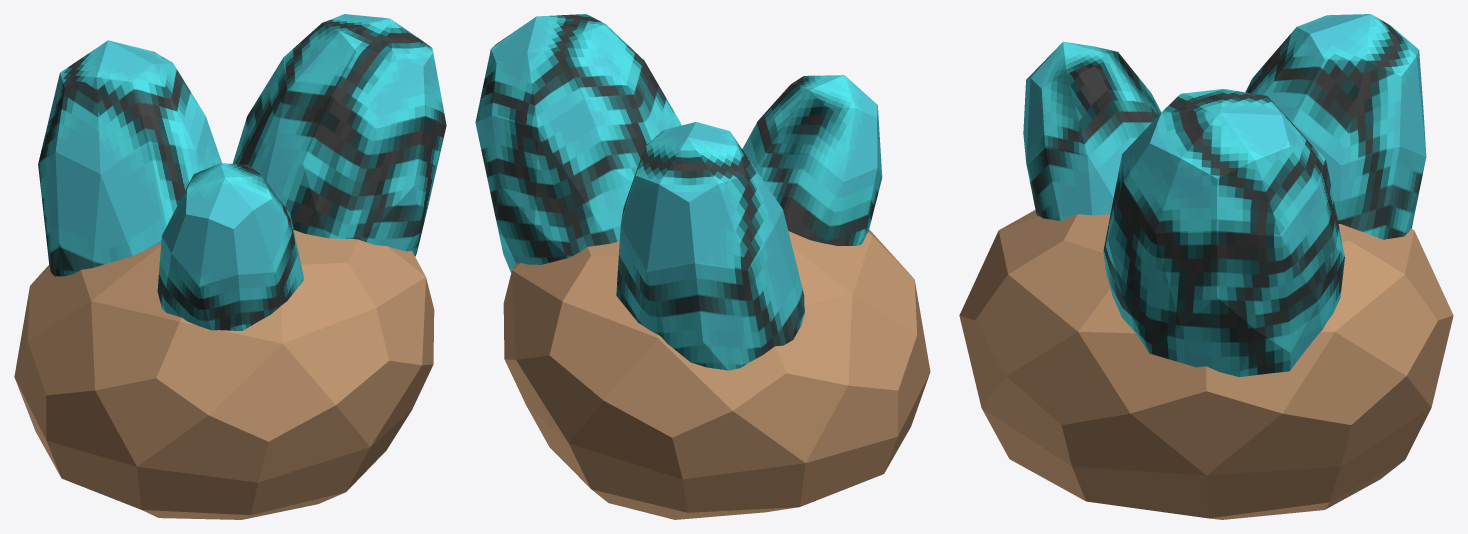
Rendered from SM_DiamondOreRock.fbx.
The picture shows the model from 3 angles, left to right: view 1: azimuth 30°, elevation 25°; view 2: azimuth 150°, elevation 25°; view 3: azimuth 270°, elevation 25°; orthographic projection. The views are drawn at different scales.
Parts seen in each view (by area): view 1: DiamondOreRock; view 2: DiamondOreRock; view 3: DiamondOreRock.
Boxes of the visible parts, left/top/right/bottom form: DiamondOreRock: left=14, top=14, right=446, bottom=519; DiamondOreRock: left=475, top=14, right=930, bottom=519; DiamondOreRock: left=959, top=14, right=1453, bottom=519.
Size of the model in its own units: 88.92 by 87.04 by 84.76.
